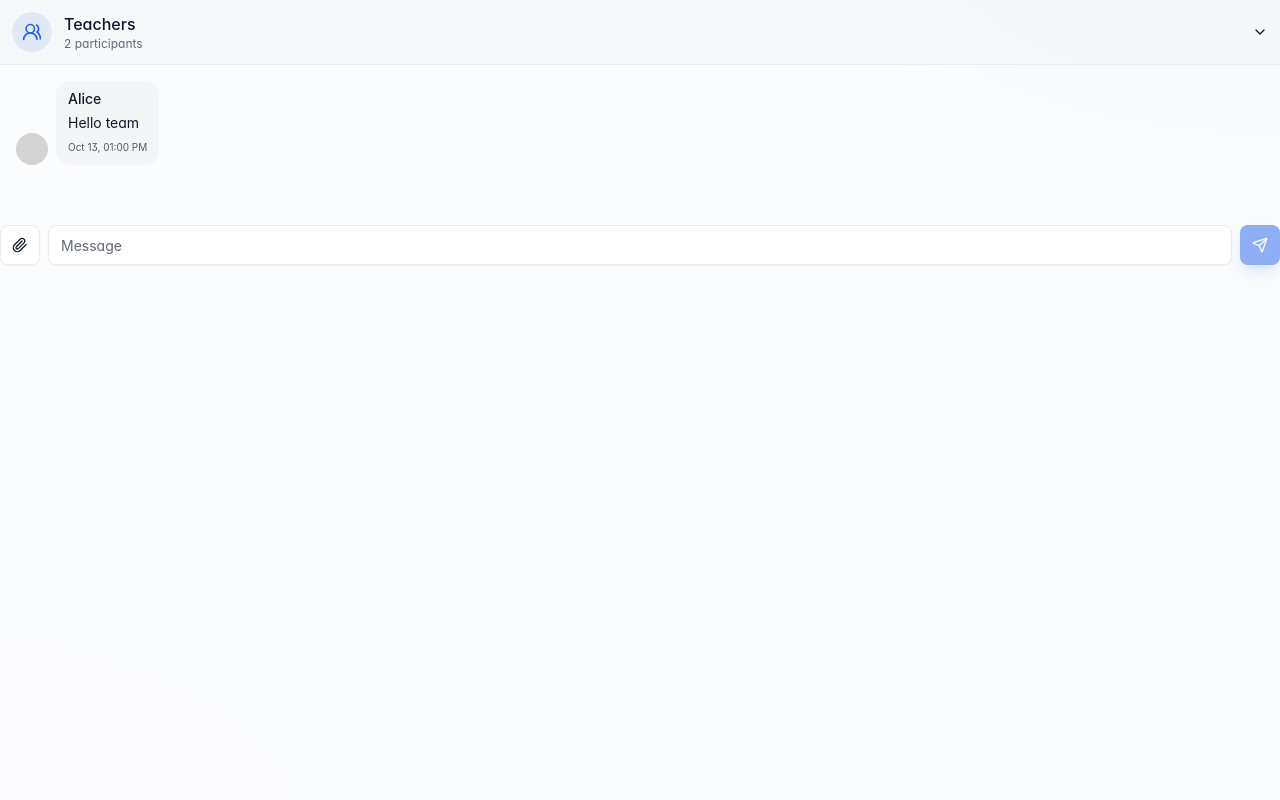
Test case: renames a group and preserves unsaved changes when closing is cancelled
This screenshot has width=1280, height=800.
Step 1. Click the button with aria-label "Group details" → (32, 32), box [0,0,1279,65]
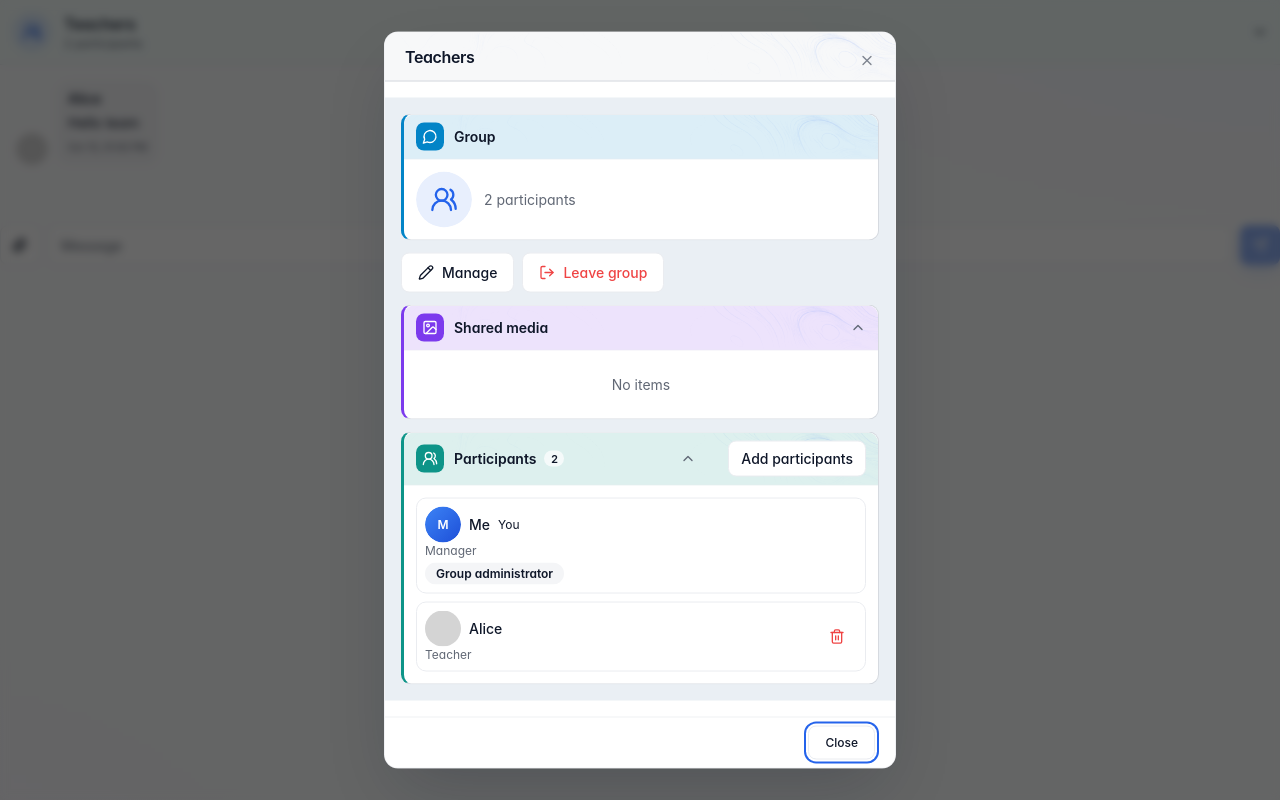
Step 2. Click the button "Manage" → (458, 272), box [401,252,514,292]
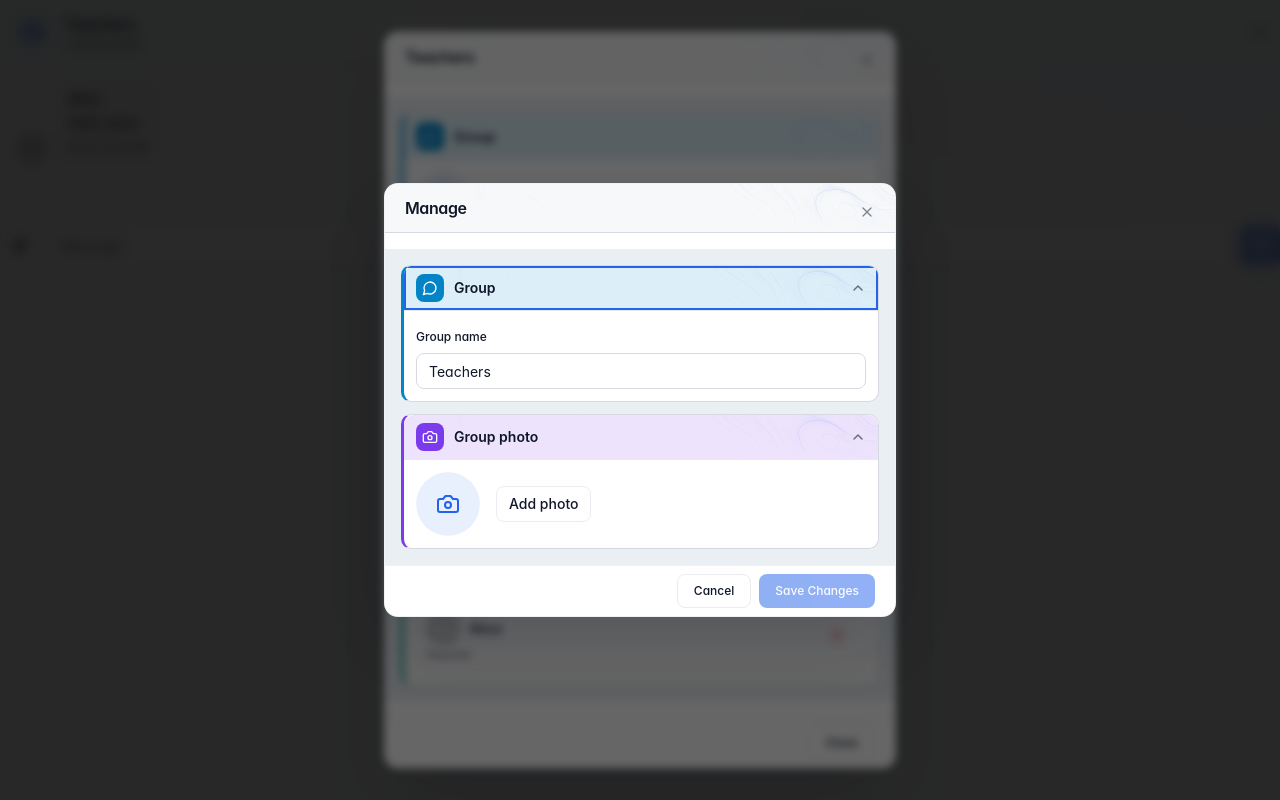
Step 3. Replace the text in the field labelled "Group name" with "Tutors" → (641, 371), box [416,353,866,389]
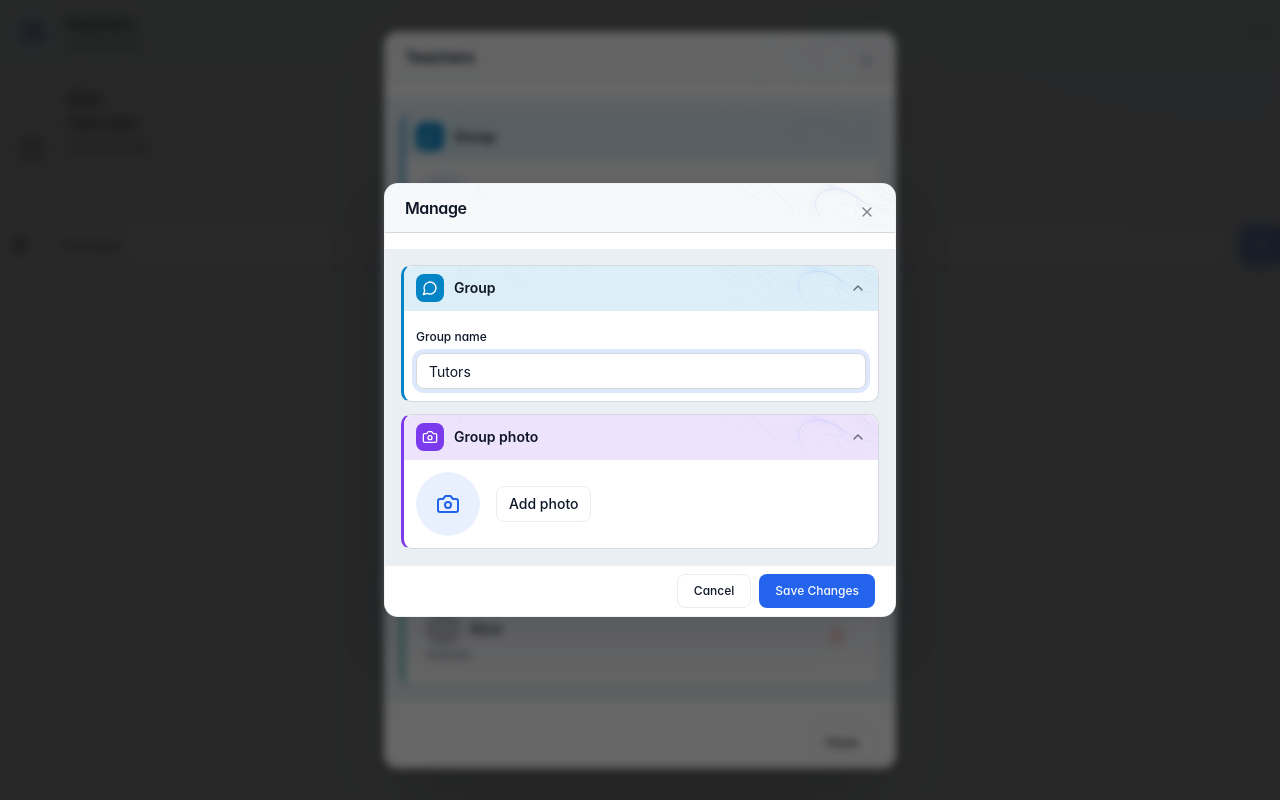
Step 4. Click the button "Cancel" → (714, 591), box [677,574,751,608]
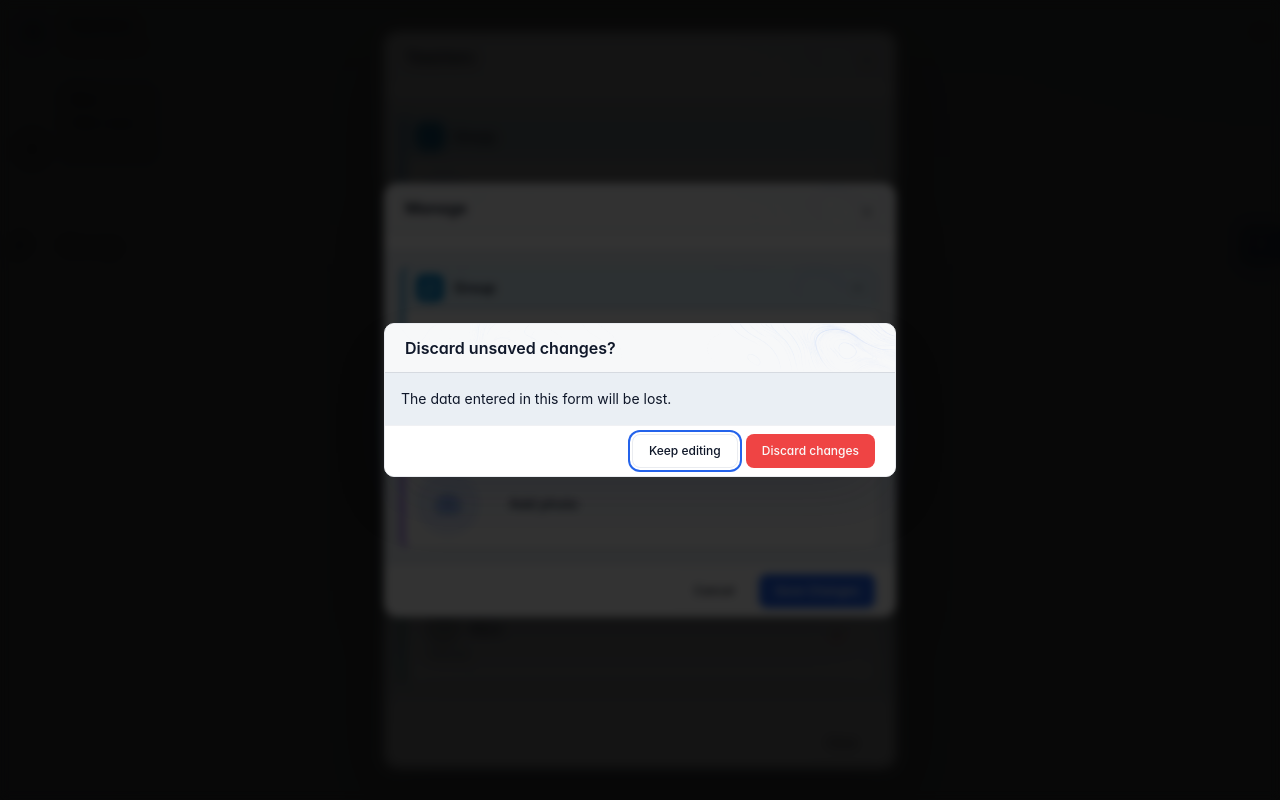
Step 5. Click the button "Keep editing" → (685, 451), box [632,434,738,468]
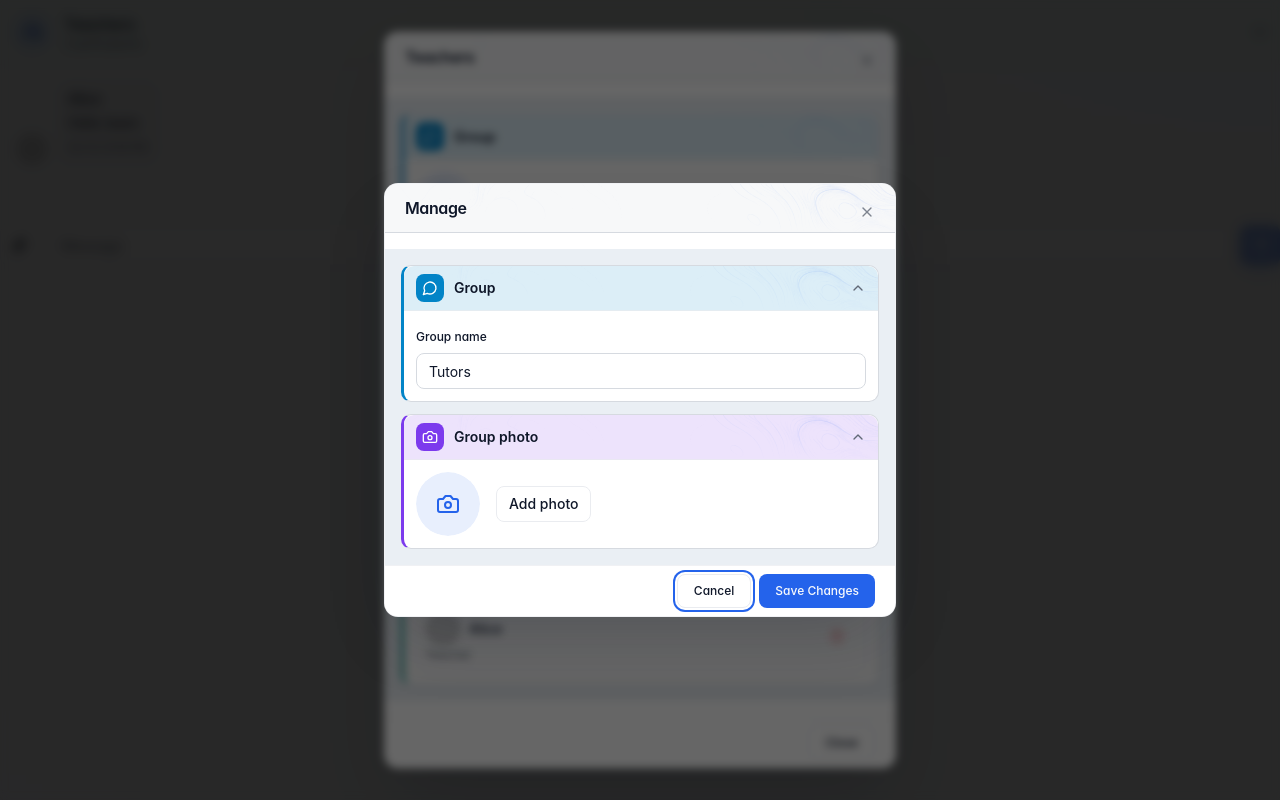
Step 6. Click the button "Save Changes" → (817, 591), box [759,574,875,608]
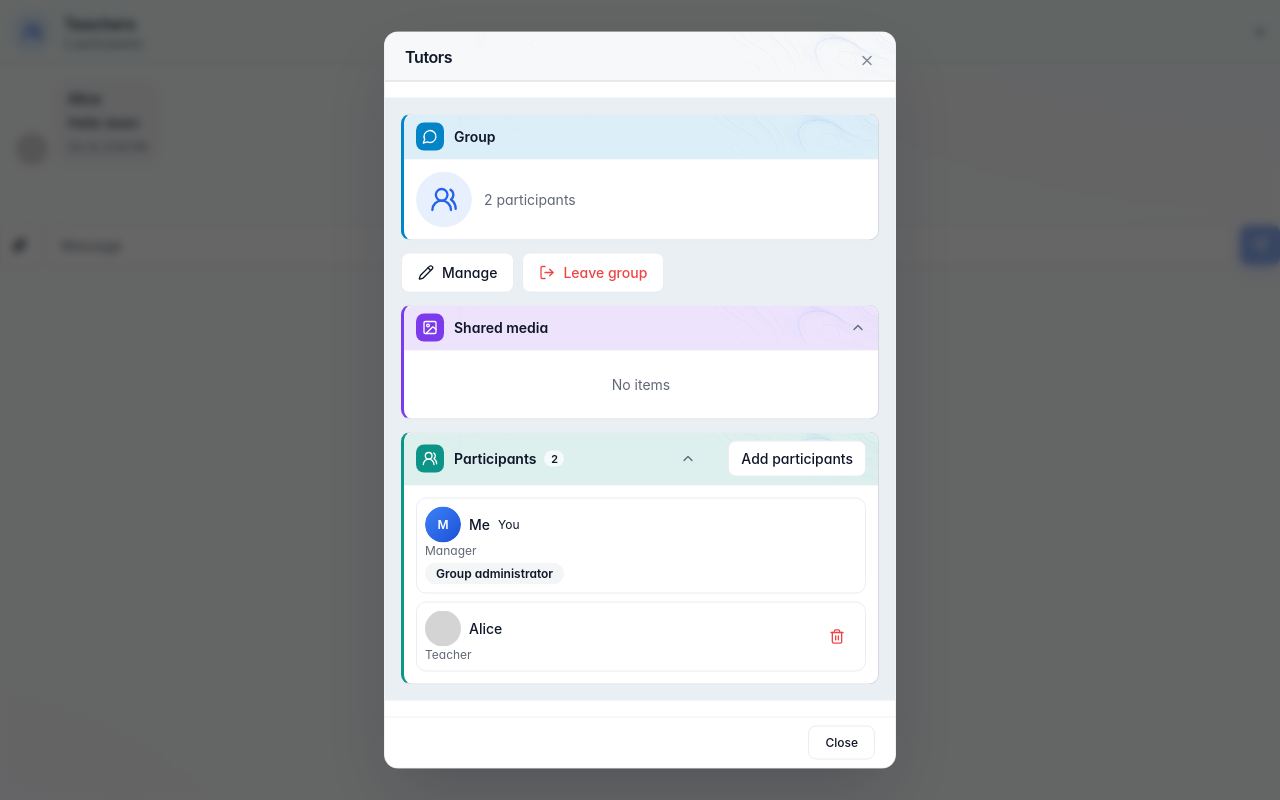
expect the dialog "Tutors" is shown: met, box [384,32,896,768]
